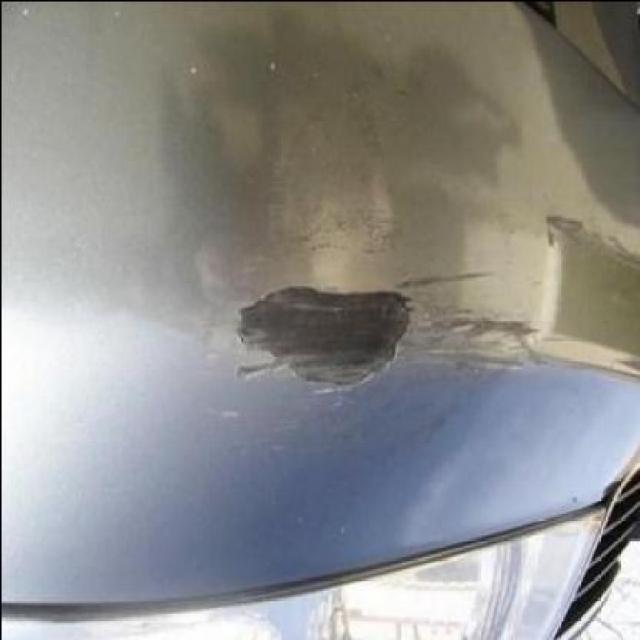damage: (229, 281, 411, 398), (539, 213, 586, 251)
